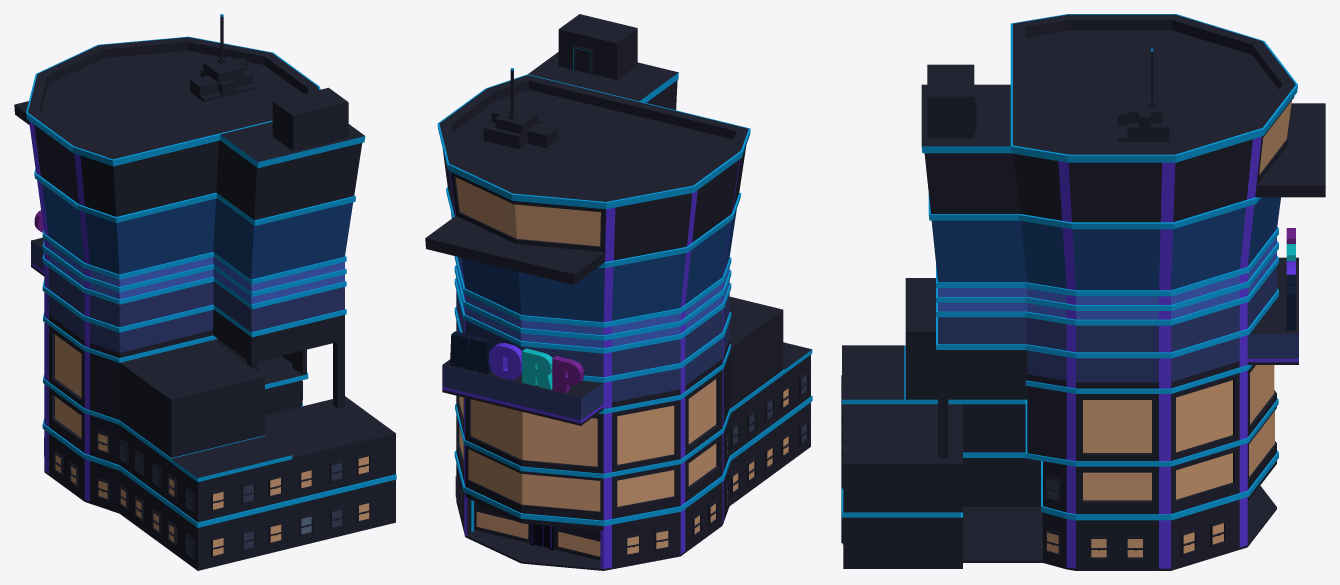
The model's file is Building_MORPOffice.fbx.
3 views of the same model, side by side, from view 1: azimuth 30°, elevation 25°; view 2: azimuth 150°, elevation 25°; view 3: azimuth 270°, elevation 25° (orthographic). The views are drawn at different scales.
Visible parts, largest first — view 1: Cylinder.273; view 2: Cylinder.273, Text.001; view 3: Cylinder.273, Text.001.
Boxes of the visible parts, left/top/right/bottom form: Cylinder.273: left=14, top=14, right=396, bottom=570; Cylinder.273: left=425, top=14, right=812, bottom=570; Text.001: left=450, top=331, right=583, bottom=393; Cylinder.273: left=841, top=14, right=1325, bottom=570; Text.001: left=1286, top=228, right=1295, bottom=330.
Bounding box in the file's own units: 1671 × 2725 × 2415.
